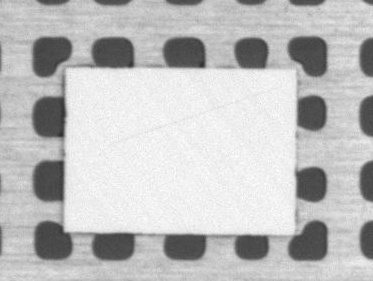DIE_CRACK: (142, 66, 369, 109)
